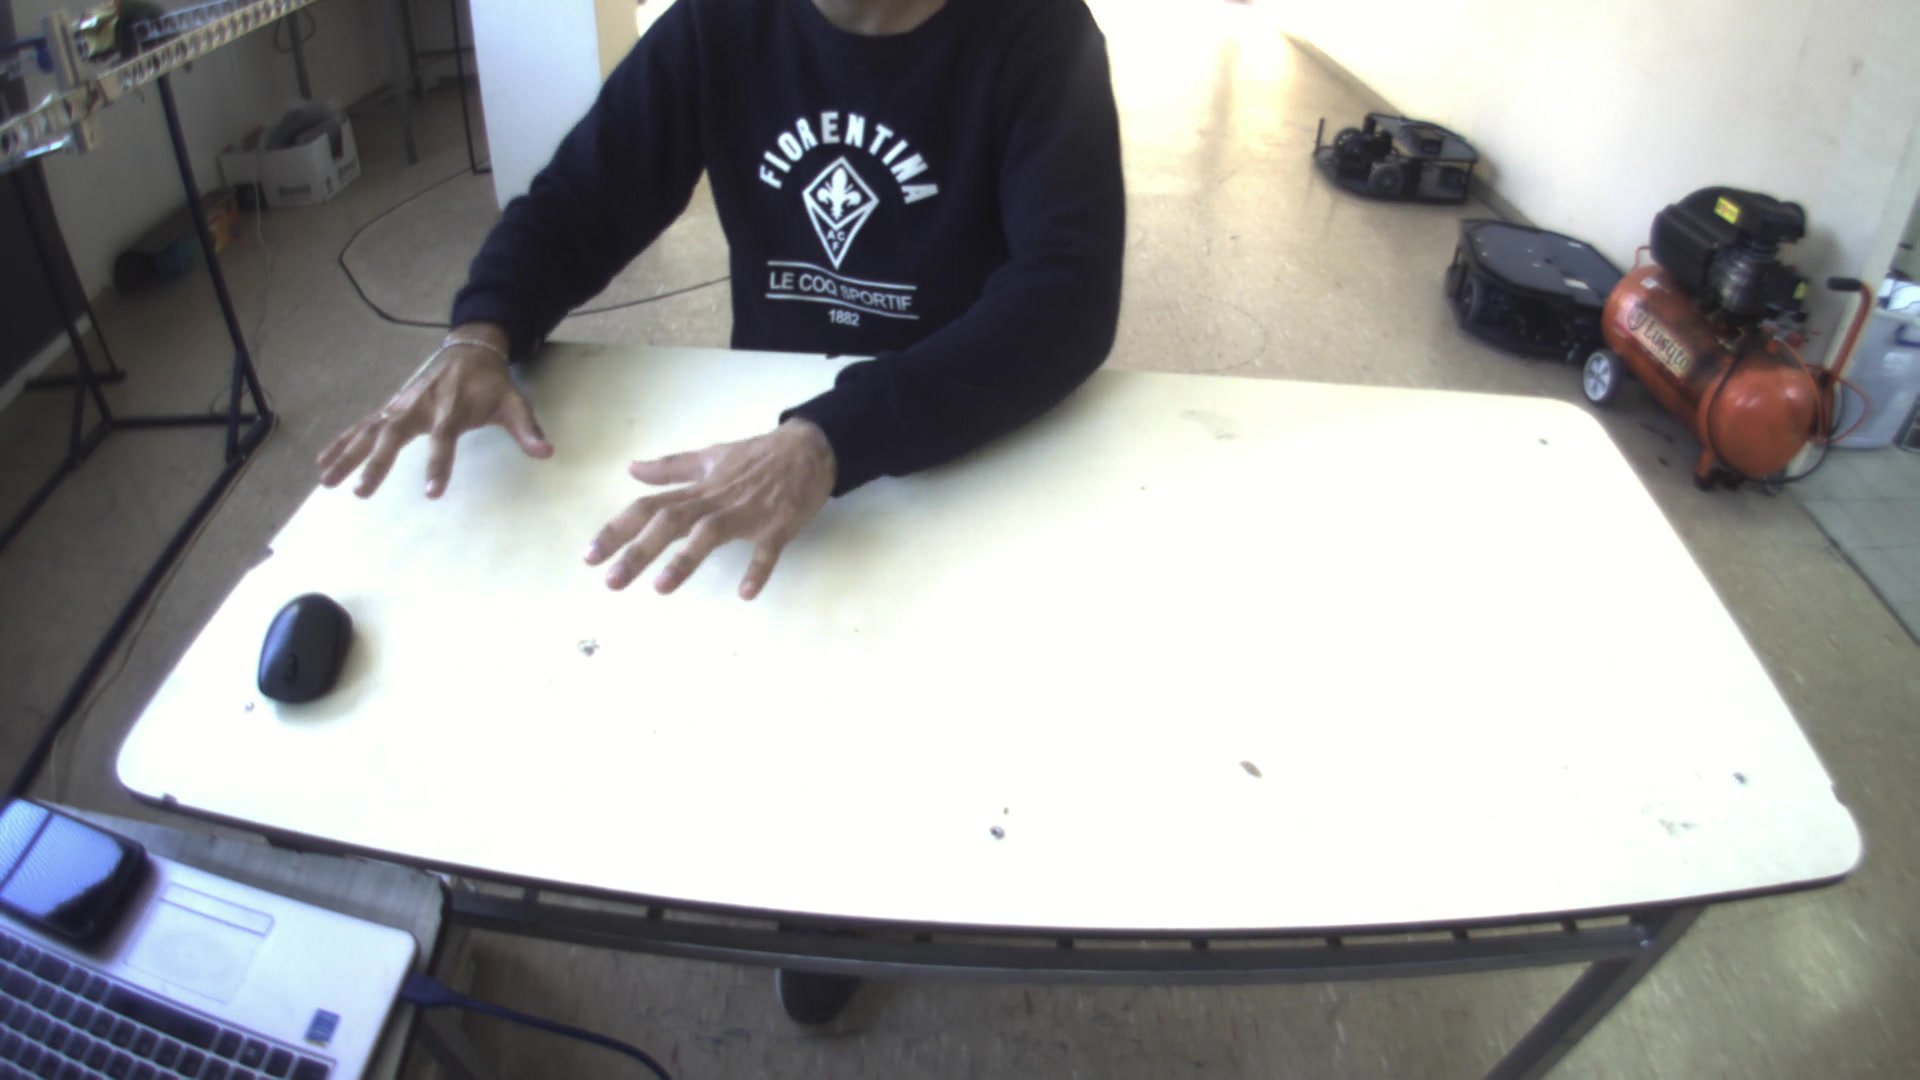hand: (567, 404, 836, 603), (302, 316, 551, 506)
